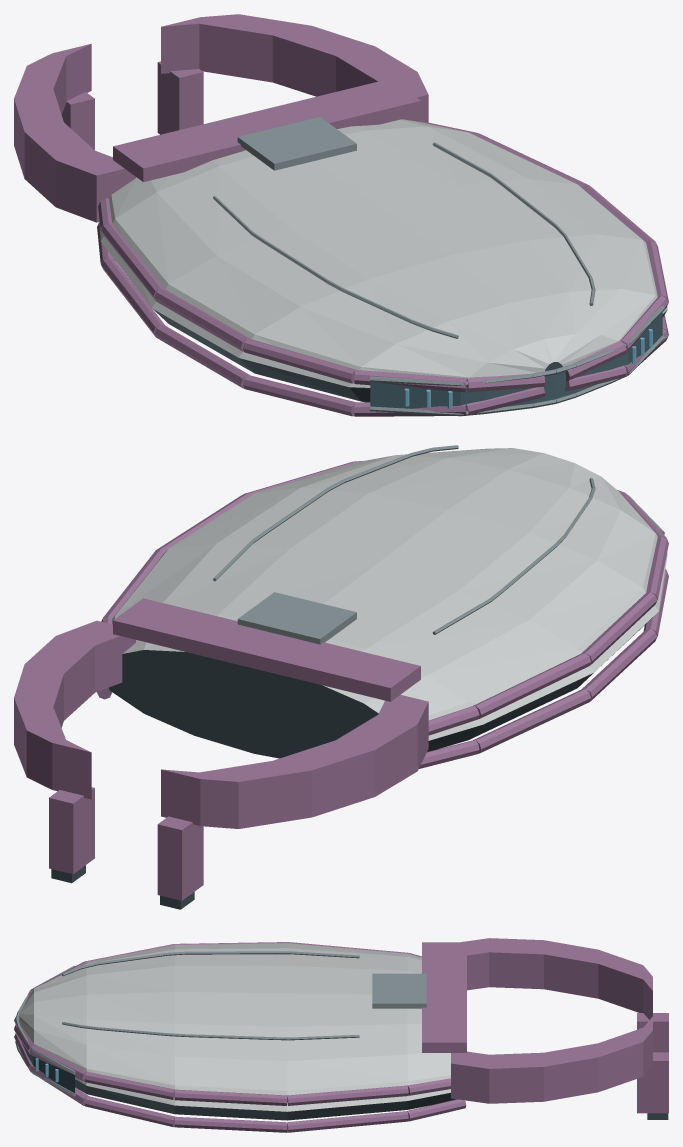
Rendered from rayfam_purple_off.glb.
The picture shows the model from 3 angles, top to bottom: view 1: azimuth 30°, elevation 25°; view 2: azimuth 150°, elevation 25°; view 3: azimuth 270°, elevation 25°; orthographic projection. The views are drawn at different scales.
Parts seen in each view (by area): view 1: material_0, material_2, material_3, material_4, material_1, material_5; view 2: material_0, material_2, material_1, material_3; view 3: material_0, material_2, material_3, material_1, material_4.
Boxes of the visible parts, <box> form: material_0: <box>99,119,667,387</box>; material_2: <box>14,14,668,416</box>; material_3: <box>213,117,664,416</box>; material_4: <box>370,311,662,410</box>; material_1: <box>152,308,667,402</box>; material_5: <box>404,329,652,408</box>; material_0: <box>112,448,667,740</box>; material_2: <box>14,461,668,900</box>; material_1: <box>51,617,652,909</box>; material_3: <box>213,445,664,644</box>; material_0: <box>19,943,450,1111</box>; material_2: <box>14,938,668,1132</box>; material_3: <box>15,951,426,1096</box>; material_1: <box>75,1079,668,1120</box>; material_4: <box>21,1042,74,1093</box>.
Bounding box in the file's own units: 17.71 × 5.57 × 30.64.
